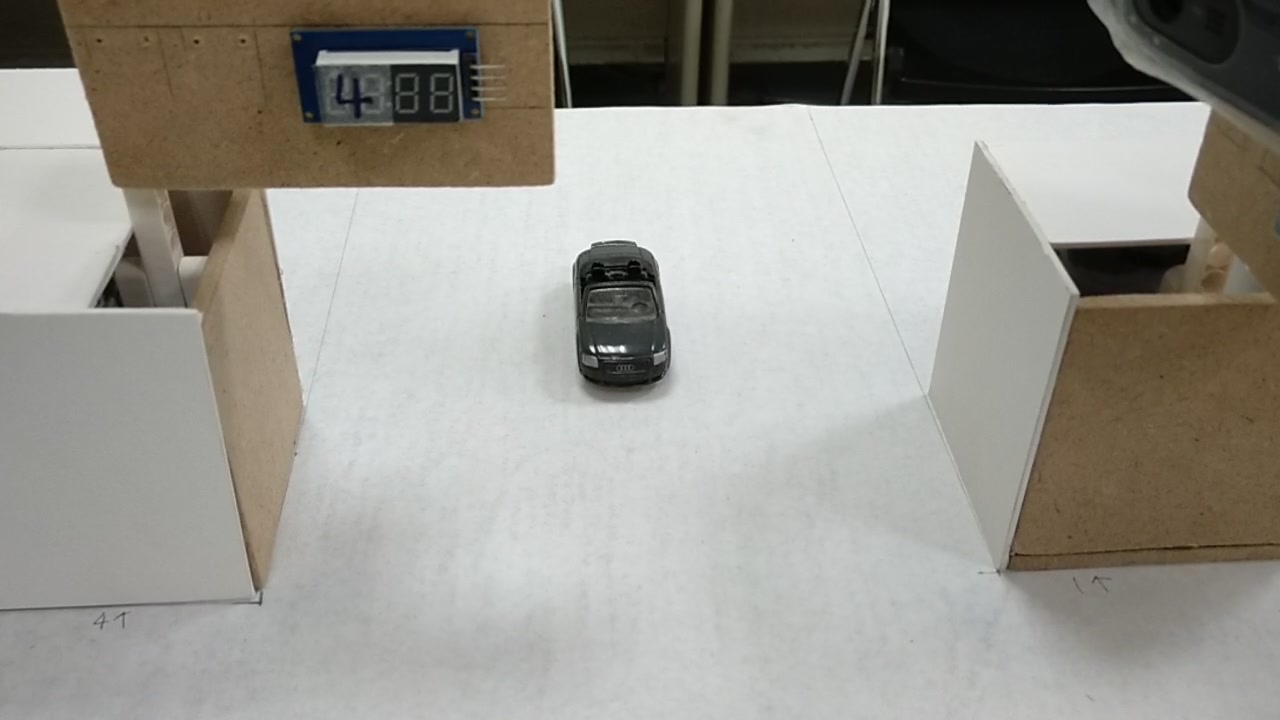car: (562, 242, 675, 385)
